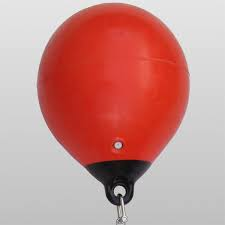buoy: (36, 1, 192, 165)
